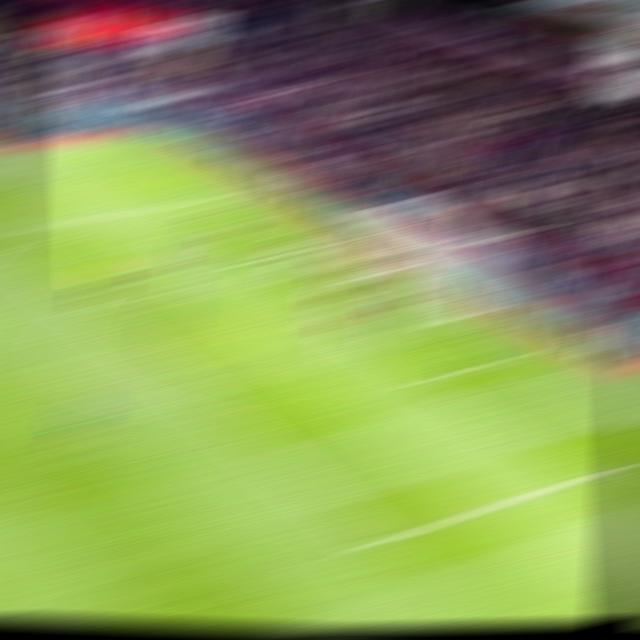bigarea_bottom_inner: (352, 529, 398, 556)
bigarea_top_outter: (208, 188, 245, 199)
bottom_arc_area_intersection: (197, 403, 240, 425)
corner: (108, 135, 150, 145)
smallarea_bottom_inner: (406, 368, 451, 388)
smallarea_bottom_outter: (491, 348, 532, 363)
smallarea_top_inner: (223, 254, 262, 269)
smallarea_top_outter: (296, 238, 336, 251)
top_arc_area_intersection: (60, 297, 103, 314)
